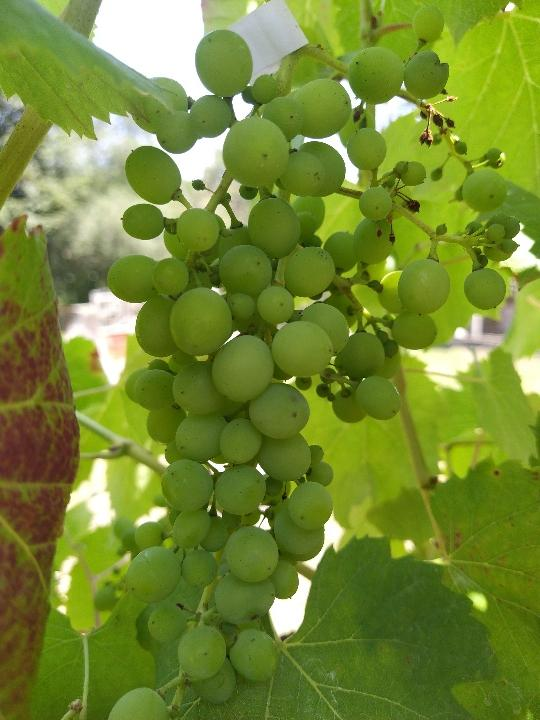grape: (104, 3, 519, 716)
